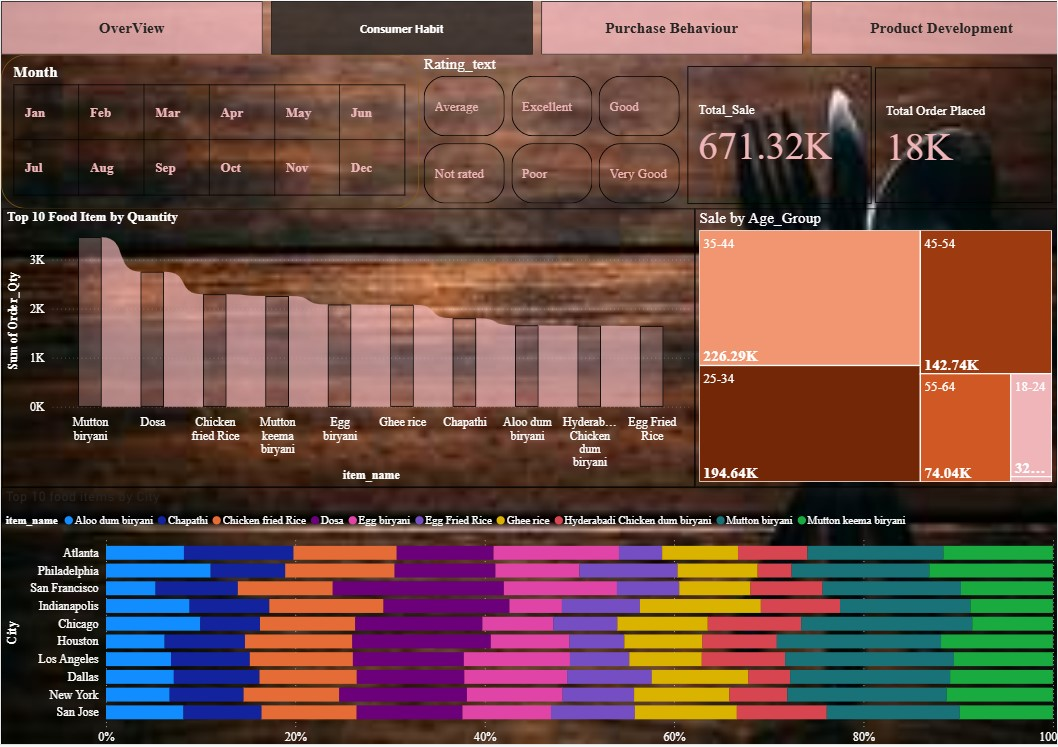

This screenshot's page, from the dashboard's own definition file:
{"tool":"powerbi","page":{"name":" Consumer Habit","canvas":[1280,900],"ordinal":1},"visuals":[{"type":"hundredPercentStackedBarChart","title":"Top 10 food items by City","fields":{"Category":["Dim_Geography.City"],"Y":["Sum(Fact_order_Details.Order_Qty)"],"Series":["Dim_Menu_Items.item_name"]},"box":[0,588.9,1298.6,334.7],"z":0},{"type":"advancedSlicerVisual","title":"Month","fields":{"Values":["Date.Month_Name"]},"box":[0,65.3,506.3,186.3],"z":1000},{"type":"cardVisual","fields":{"Data":["Sum(Fact_order_Details.Total_Sale)"]},"box":[827,74.3,233.8,177],"z":2000},{"type":"cardVisual","fields":{"Data":["CountNonNull(Fact_order_Details.Customer_id)"]},"box":[1054,75.7,225.7,174.3],"z":3000},{"type":"pageNavigator","box":[0,0,1300,65.3],"z":4000},{"type":"ribbonChart","title":"Top 10 Food Item by Quantity","fields":{"Category":["Dim_Menu_Items.item_name"],"Y":["Sum(Fact_order_Details.Order_Qty)"]},"box":[1.6,250.8,839.2,337.6],"z":5000},{"type":"treemap","title":"Sale by Age_Group","fields":{"Group":["Dim_Customers.Age_Group"],"Values":["Sum(Fact_order_Details.Total_Sale)"]},"box":[841.1,251.4,438.9,337.5],"z":6000},{"type":"advancedSlicerVisual","fields":{"Values":["Fact_order_Details.Rating_text"]},"box":[506.8,64.9,320.3,185.1],"z":7000}]}

Visuals, with their boxes in screenshot pixels (x1, y1, x2, y2), scaled from the page's 1280x900 canvas onto the 1058x747 screenshot:
"Top 10 food items by City" hundredPercentStackedBarChart: 0,489,1057,746
"Month" advancedSlicerVisual: 0,54,418,209
cardVisual - Sum(Fact_order_Details.Total_Sale): 684,62,877,209
cardVisual - CountNonNull(Fact_order_Details.Customer_id): 871,63,1057,208
pageNavigator: 0,0,1057,54
"Top 10 Food Item by Quantity" ribbonChart: 1,208,695,488
"Sale by Age_Group" treemap: 695,209,1057,489
advancedSlicerVisual - Fact_order_Details.Rating_text: 419,54,684,208
